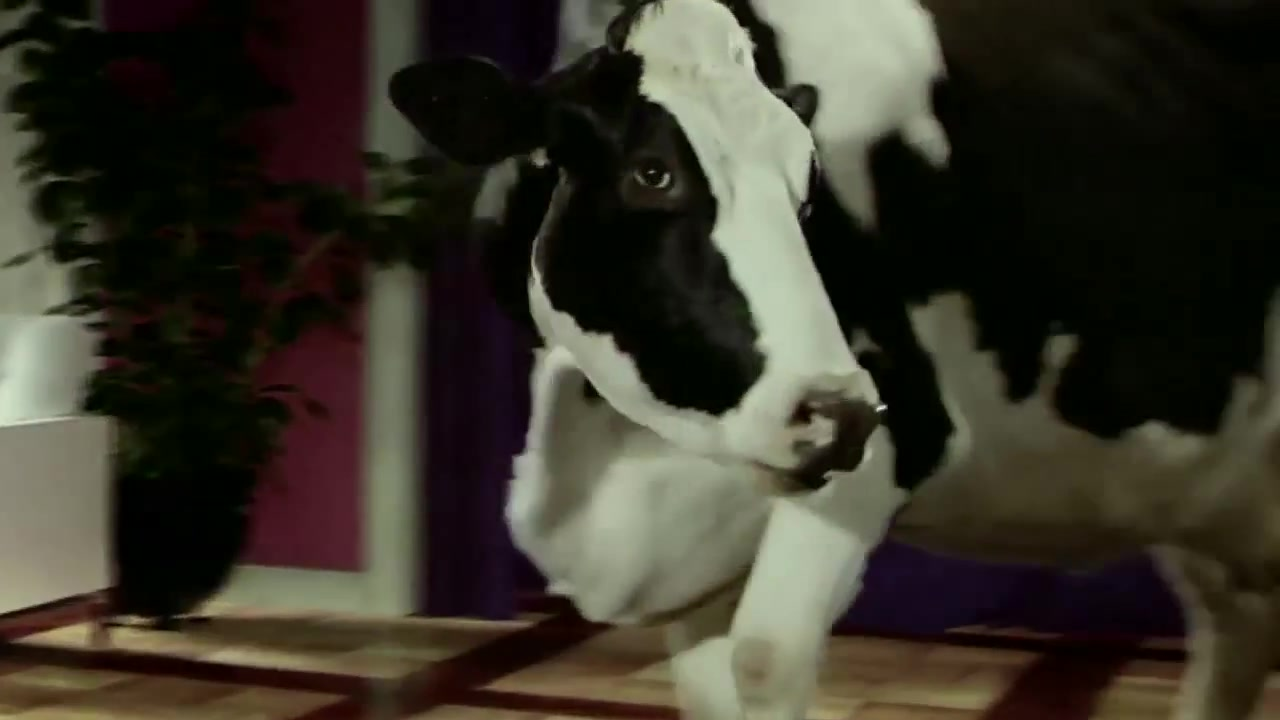cow: (390, 5, 1280, 720)
